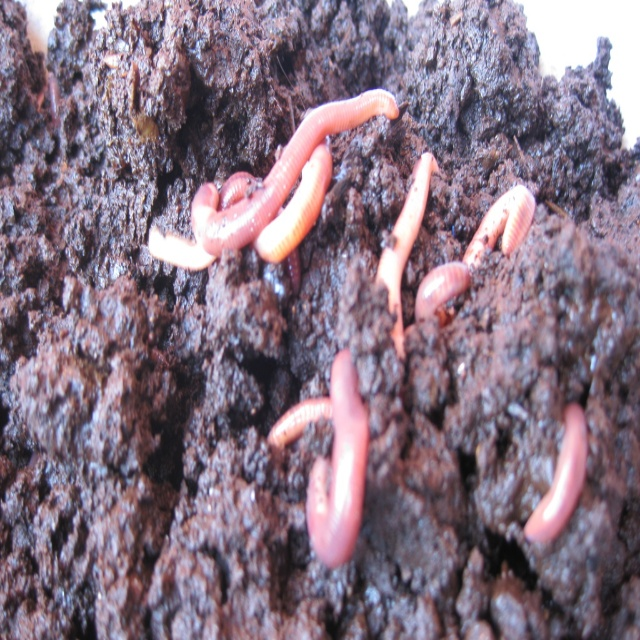Worm: (149, 88, 590, 570)
